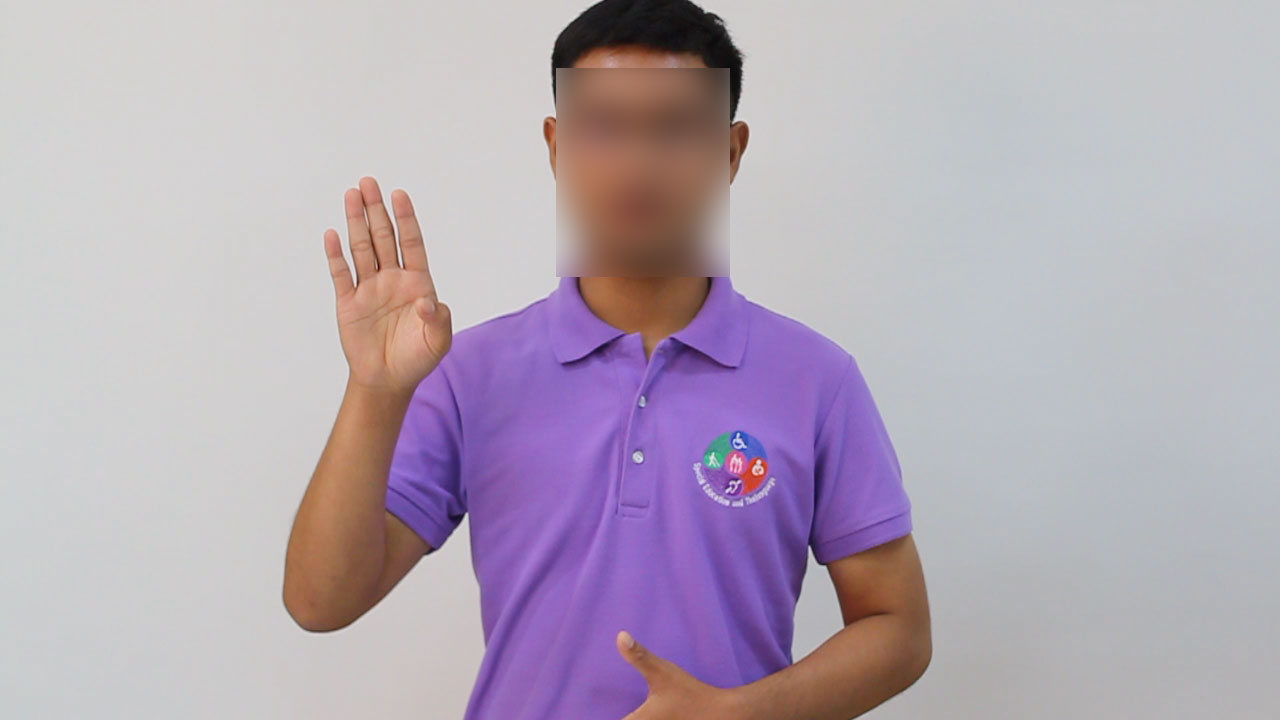bor: (302, 157, 470, 423)
